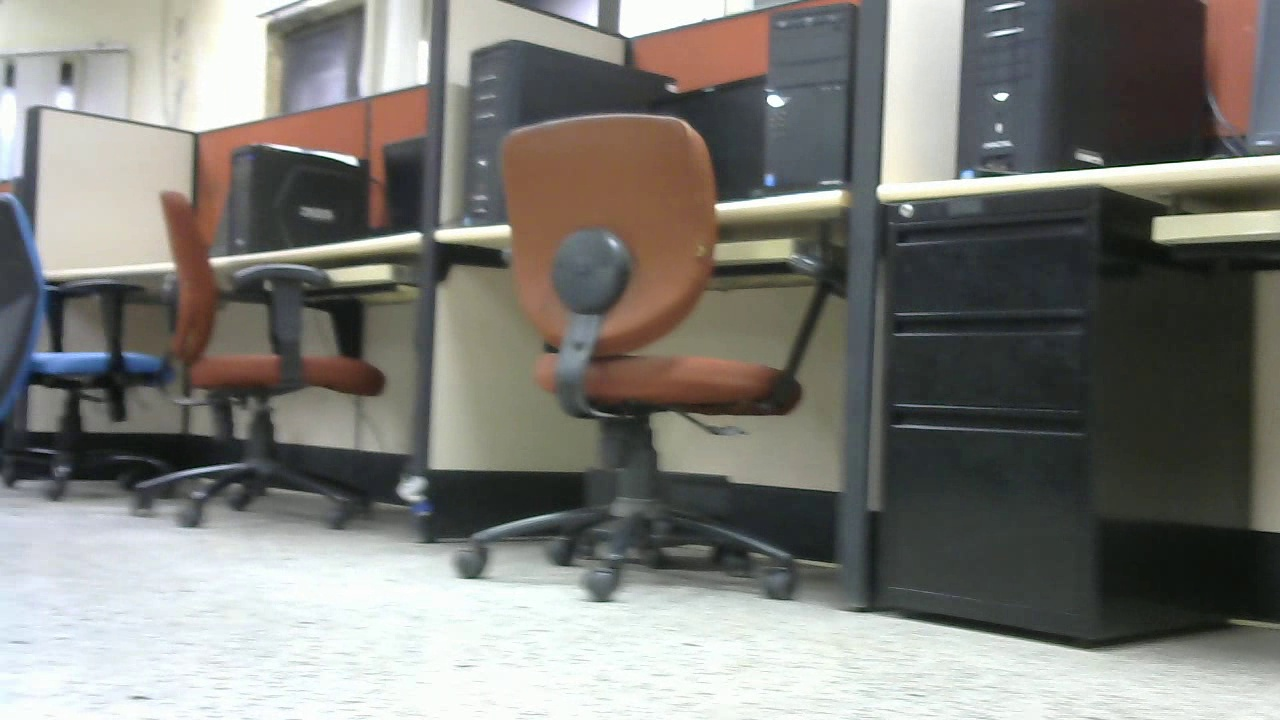chair: (449, 105, 825, 604), (124, 184, 393, 529), (1, 186, 180, 500)
